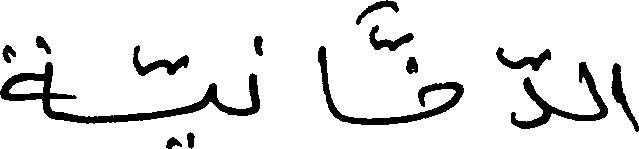X: (0, 31, 47, 120), (512, 44, 550, 133), (418, 77, 463, 124), (612, 58, 638, 136), (579, 57, 606, 125), (318, 41, 335, 122), (247, 31, 259, 120), (204, 78, 216, 112)
